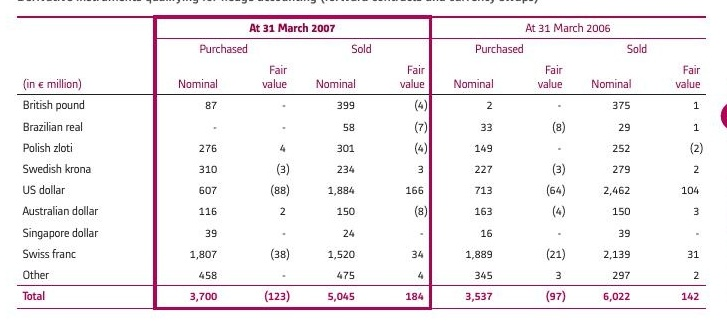table: (0, 0, 727, 328)
